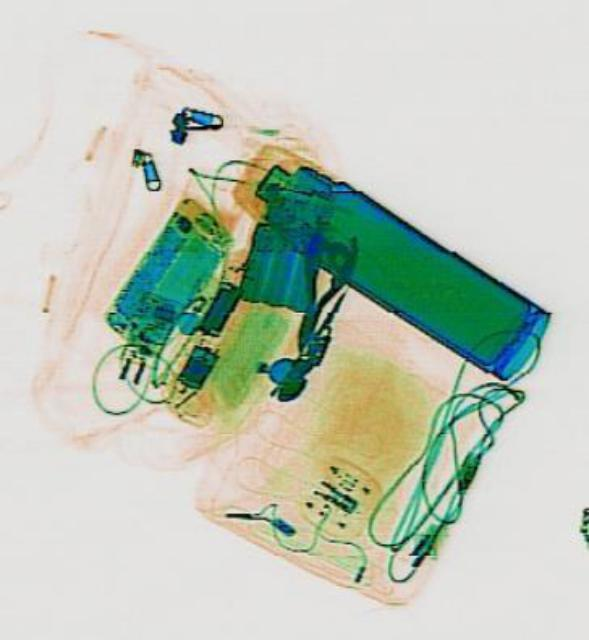Pliers: (271, 223, 360, 357)
